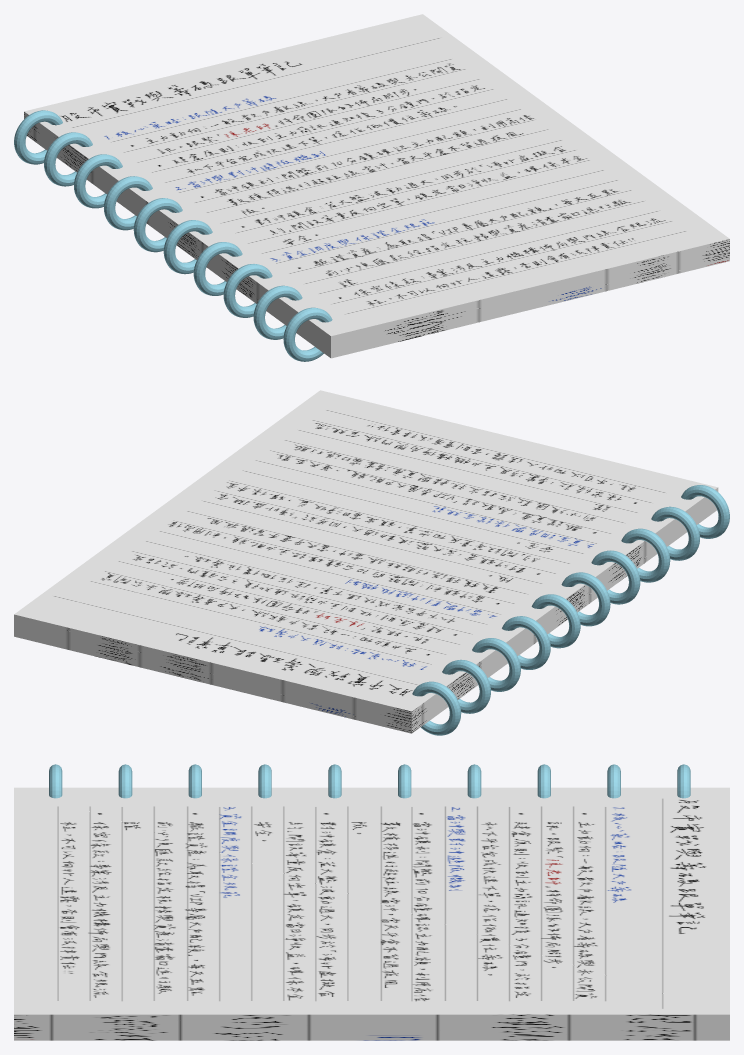
File: note.fbx
3 views of the same model, one above another, from view 1: azimuth 30°, elevation 25°; view 2: azimuth 150°, elevation 25°; view 3: azimuth 270°, elevation 25° (orthographic). The views are drawn at different scales.
Parts seen in each view (by area): view 1: Cube; view 2: Cube; view 3: Cube.
Boxes of the visible parts, box(x1,y1,x2,y2) form: Cube: box(14, 14, 729, 361); Cube: box(14, 390, 729, 735); Cube: box(14, 764, 729, 1040).
Size of the model in its own units: 32.18 by 3.75 by 40.
3 materials, 2 textured.
